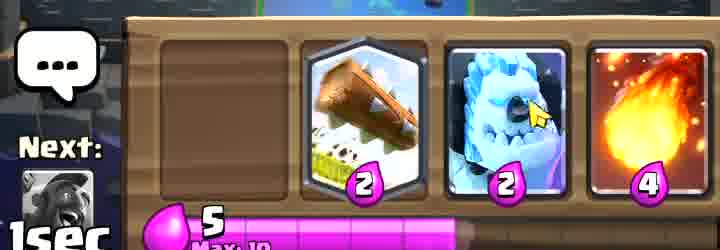fireball: (595, 46, 710, 193)
hog-rider: (21, 170, 90, 232)
ice-golem: (446, 52, 561, 197)
log: (312, 43, 423, 188)
